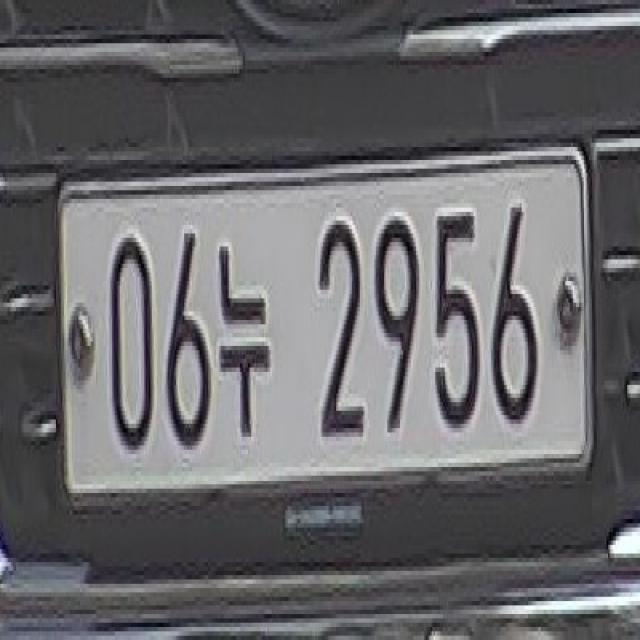0: (106, 218, 158, 472)
2: (312, 188, 369, 452)
5: (432, 192, 482, 448)
6: (488, 194, 550, 441), (164, 218, 216, 464)
9: (370, 204, 426, 462)
license_plate: (46, 121, 621, 550)
nu: (218, 218, 276, 460)
